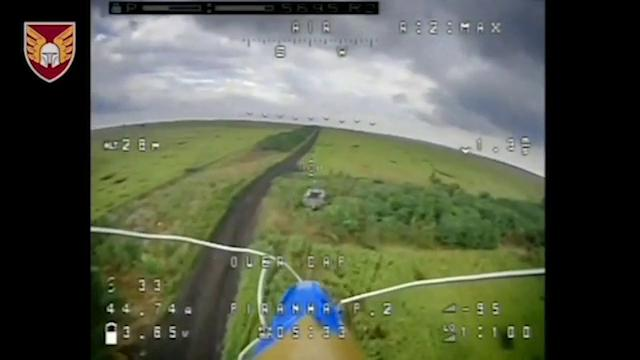tank: (297, 176, 331, 215)
